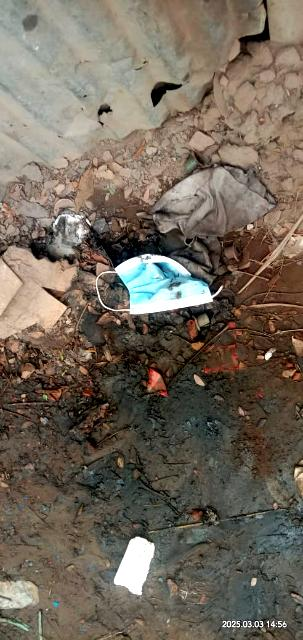mask: (110, 237, 221, 331)
